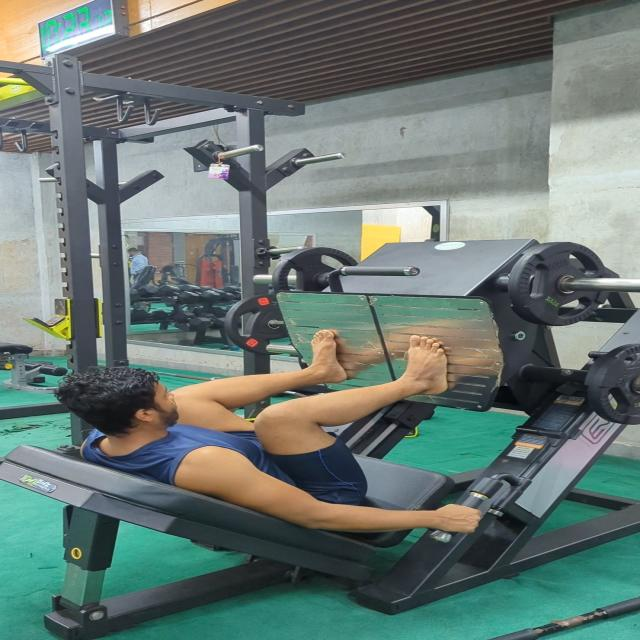Normal_LegPress: (41, 322, 518, 548)
